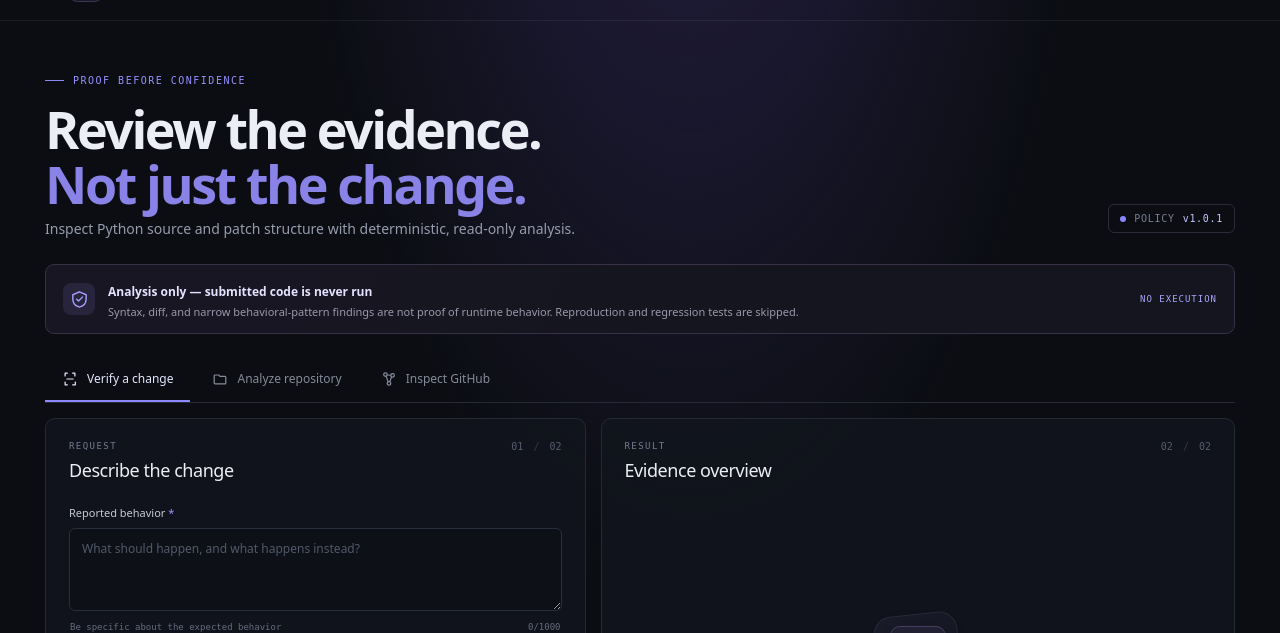
Scenario: ProofGate dashboard › requires a GitHub URL but delegates URL validity to the API
The image size is (1280, 633).
Click the tab "Inspect GitHub": [435, 380] box [364, 357, 507, 402]
(page scrolled)
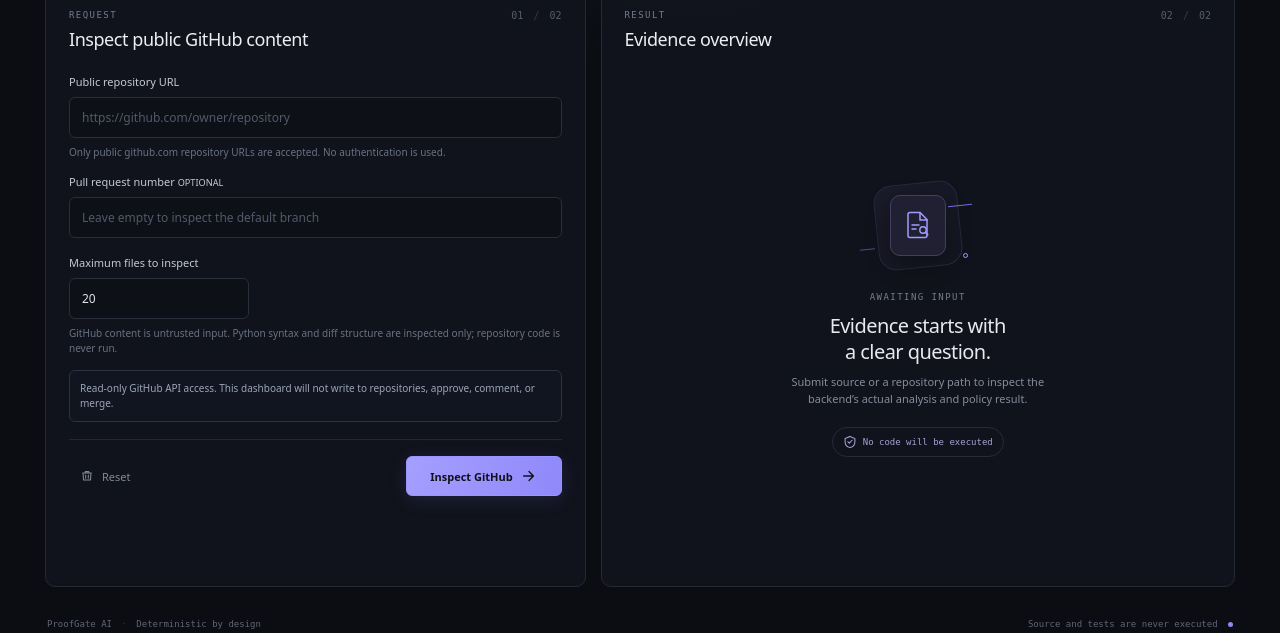
Click the button "Inspect GitHub": [484, 476] box [406, 456, 562, 496]
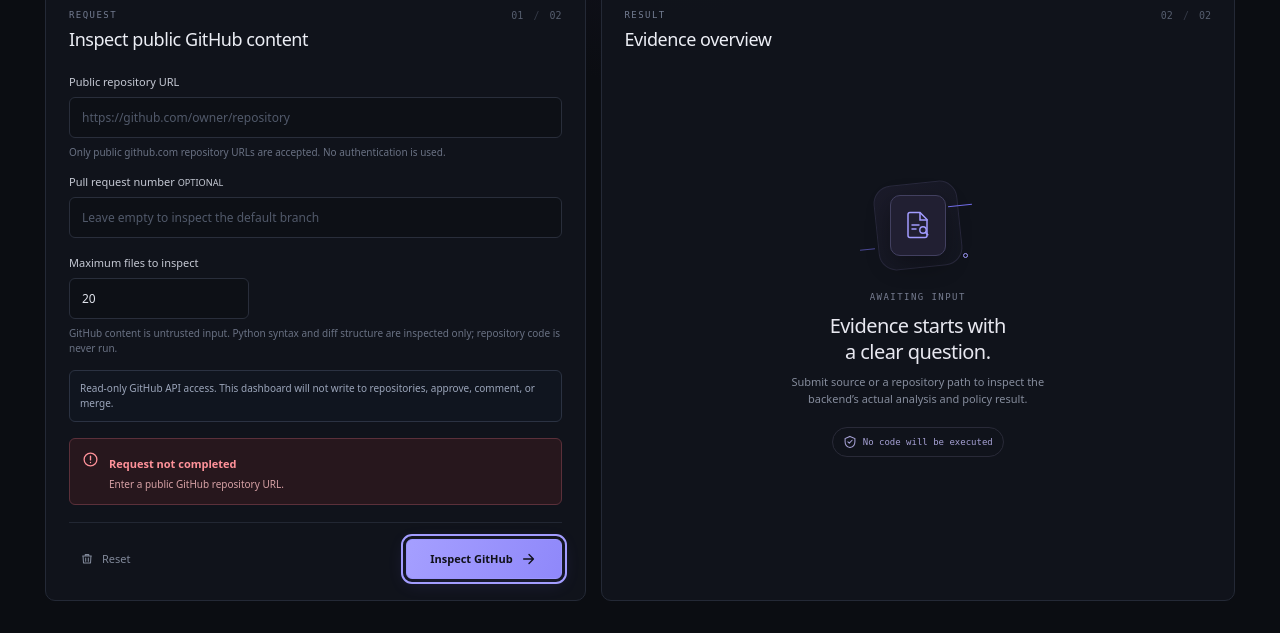
Expected: the message shows "Enter a public GitHub repository URL.", [109, 477, 284, 491]
In the field labelled "Public repository URL": [315, 118] box [69, 97, 562, 138], type "not a valid URL"
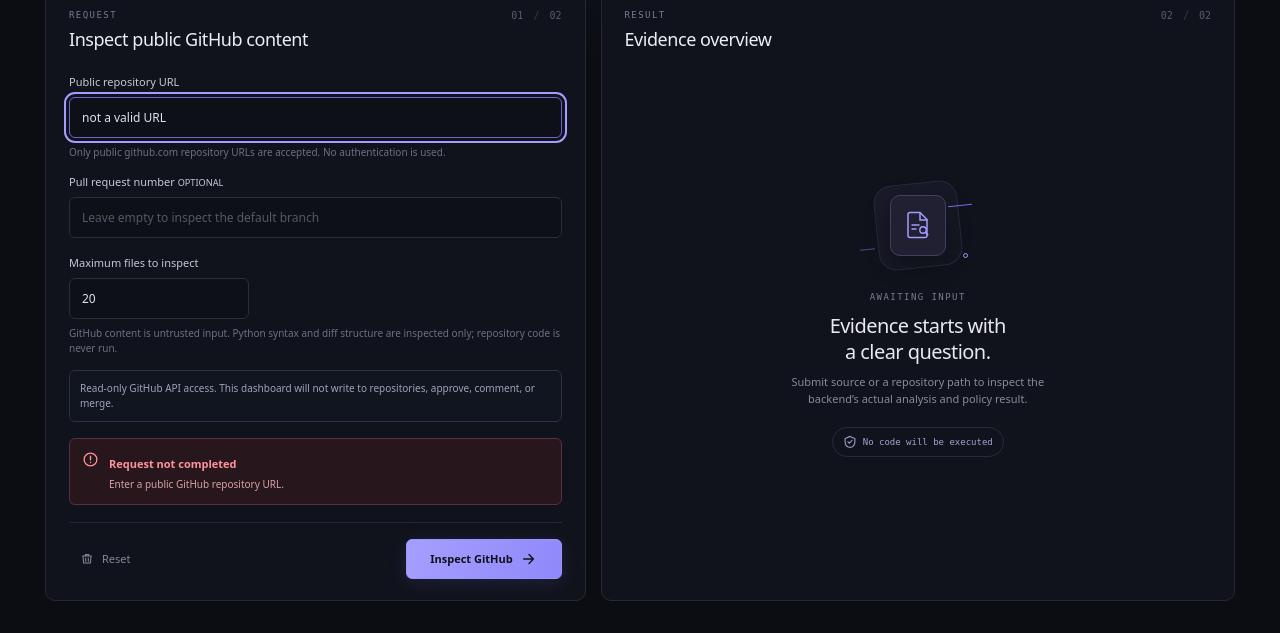
Click the button "Inspect GitHub": [484, 559] box [406, 539, 562, 579]
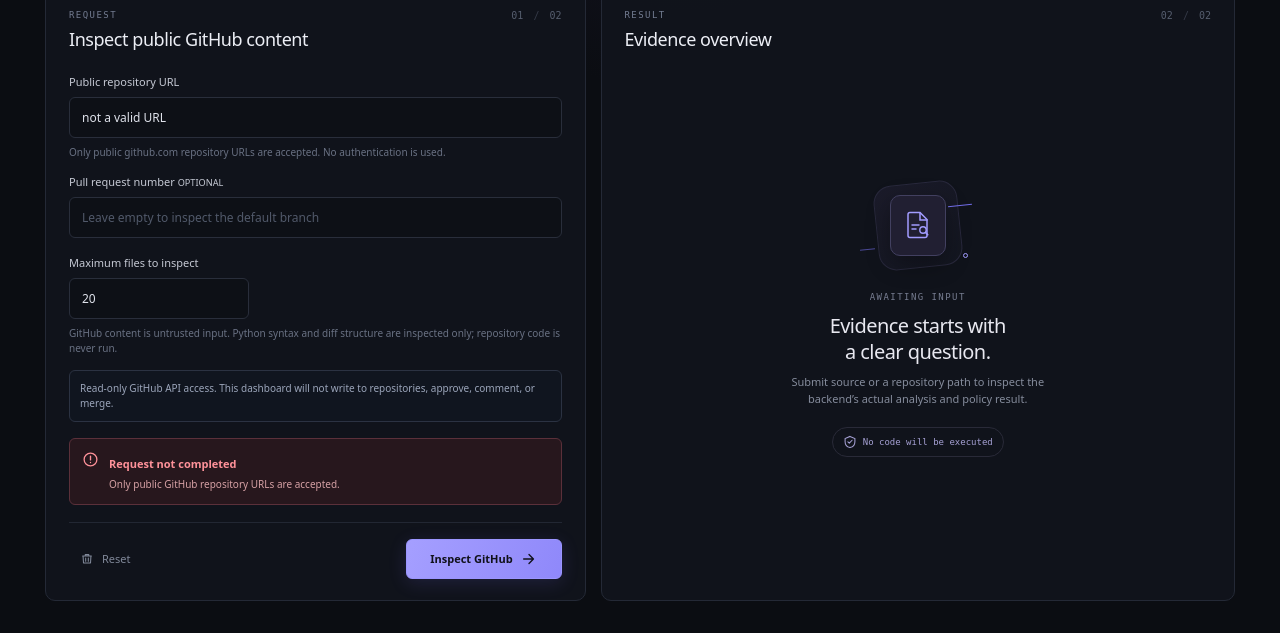
Expected: the message shows "Only public GitHub repository URLs are accepted.", [109, 477, 340, 491]
